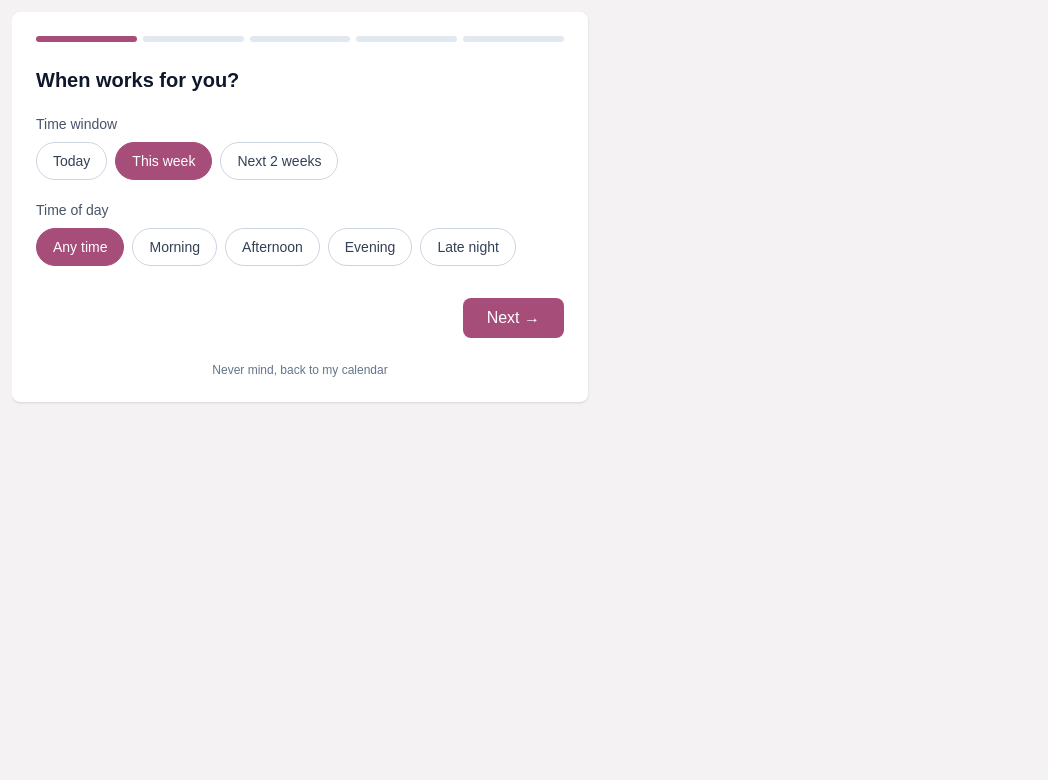
it: PrickleWizard › shows how well a series met the member's intention when they felt similar
Click the button "Next →" at (513, 318), box [463, 298, 564, 338]
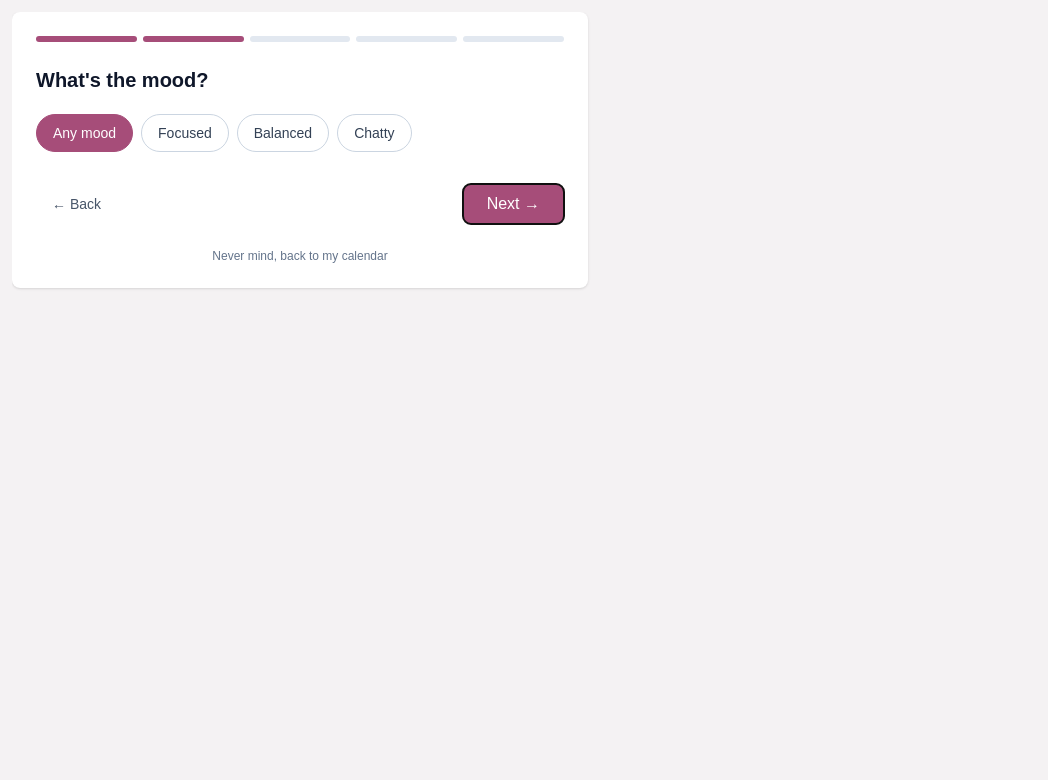
Click the button "Next →" at (513, 204), box [463, 184, 564, 224]
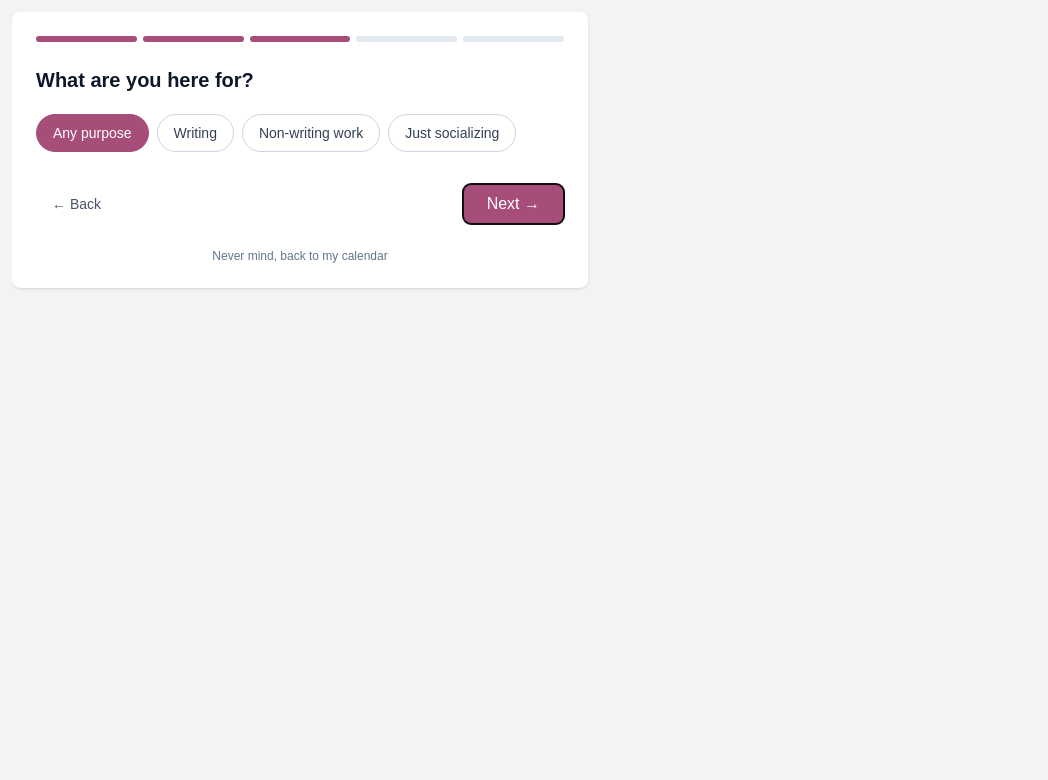
Click the button "Next →" at (513, 204), box [463, 184, 564, 224]
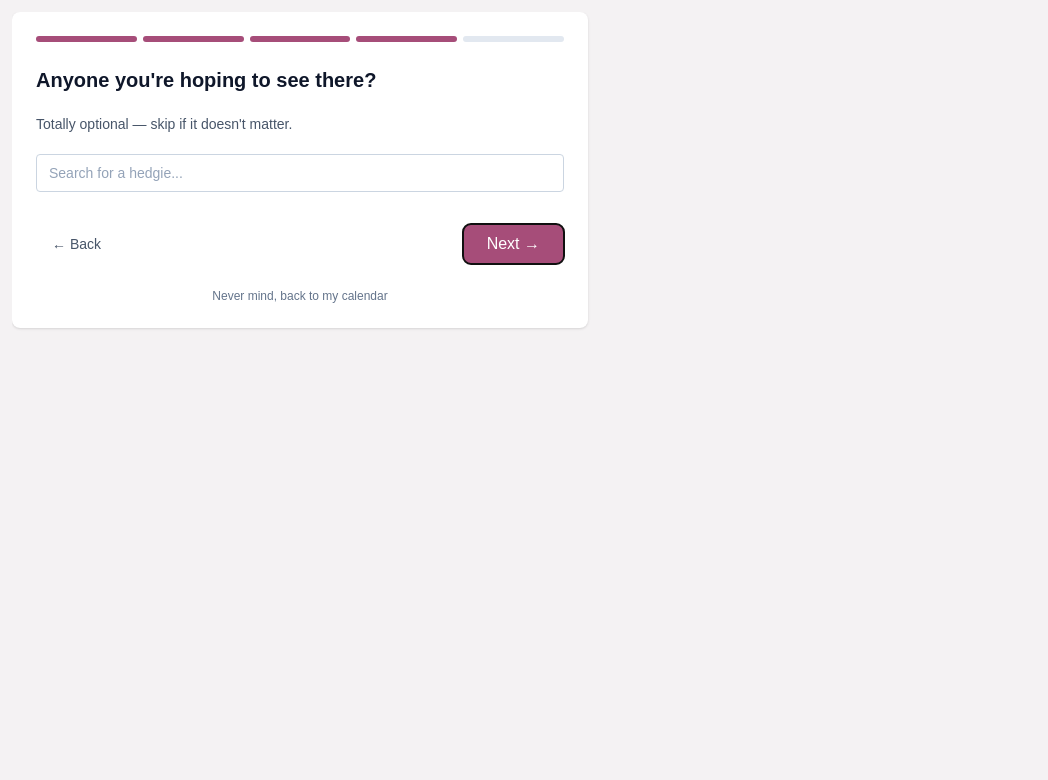
Click the button "Next →" at (513, 244), box [463, 224, 564, 264]
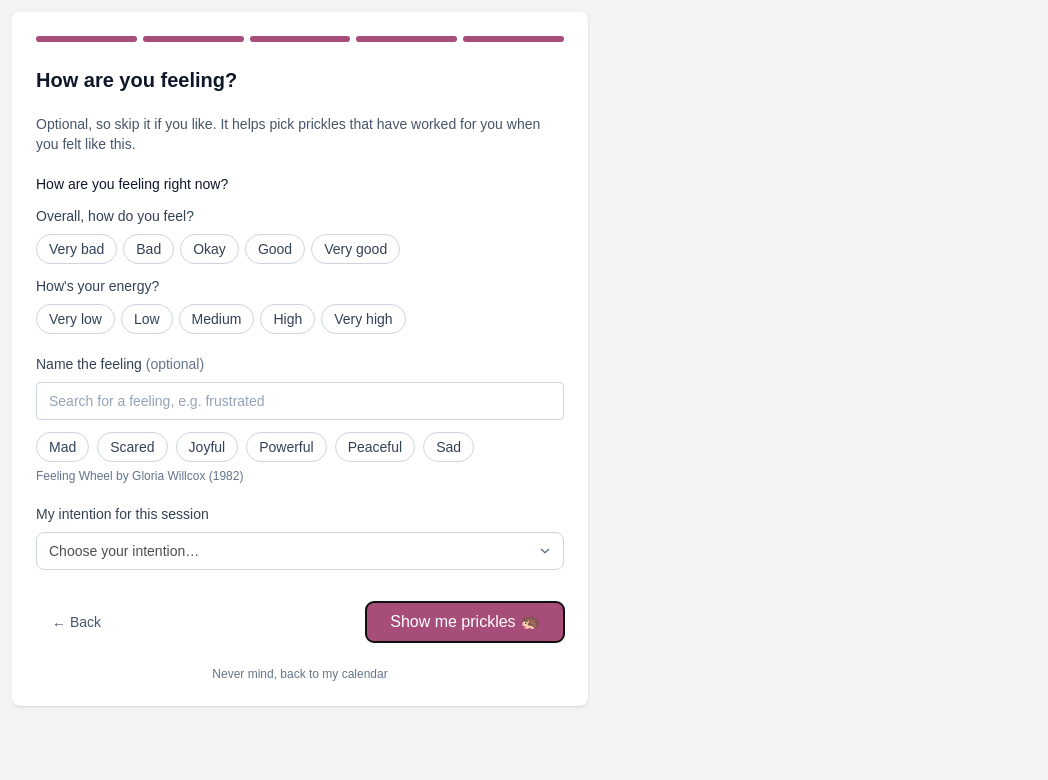
Click the button "Show me prickles 🦔" at (465, 622), box [366, 602, 564, 642]
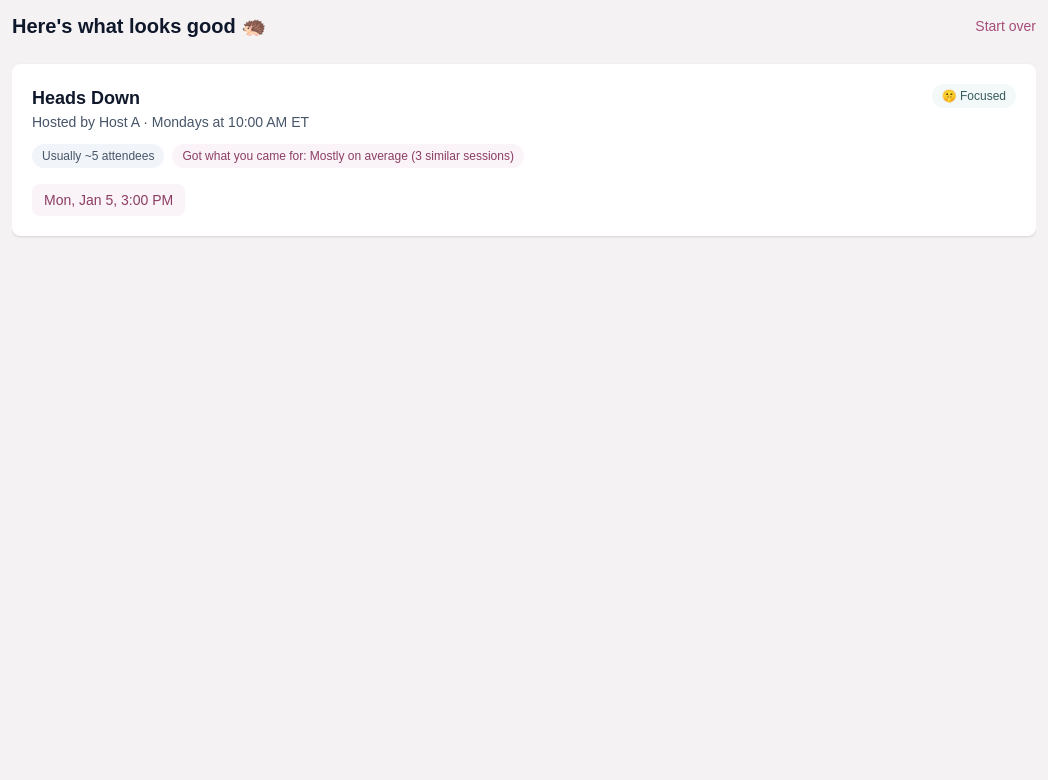
Result: the text "Got what you came for: Mostly on average (3 similar sessions)" is shown at [172, 144, 524, 168]
